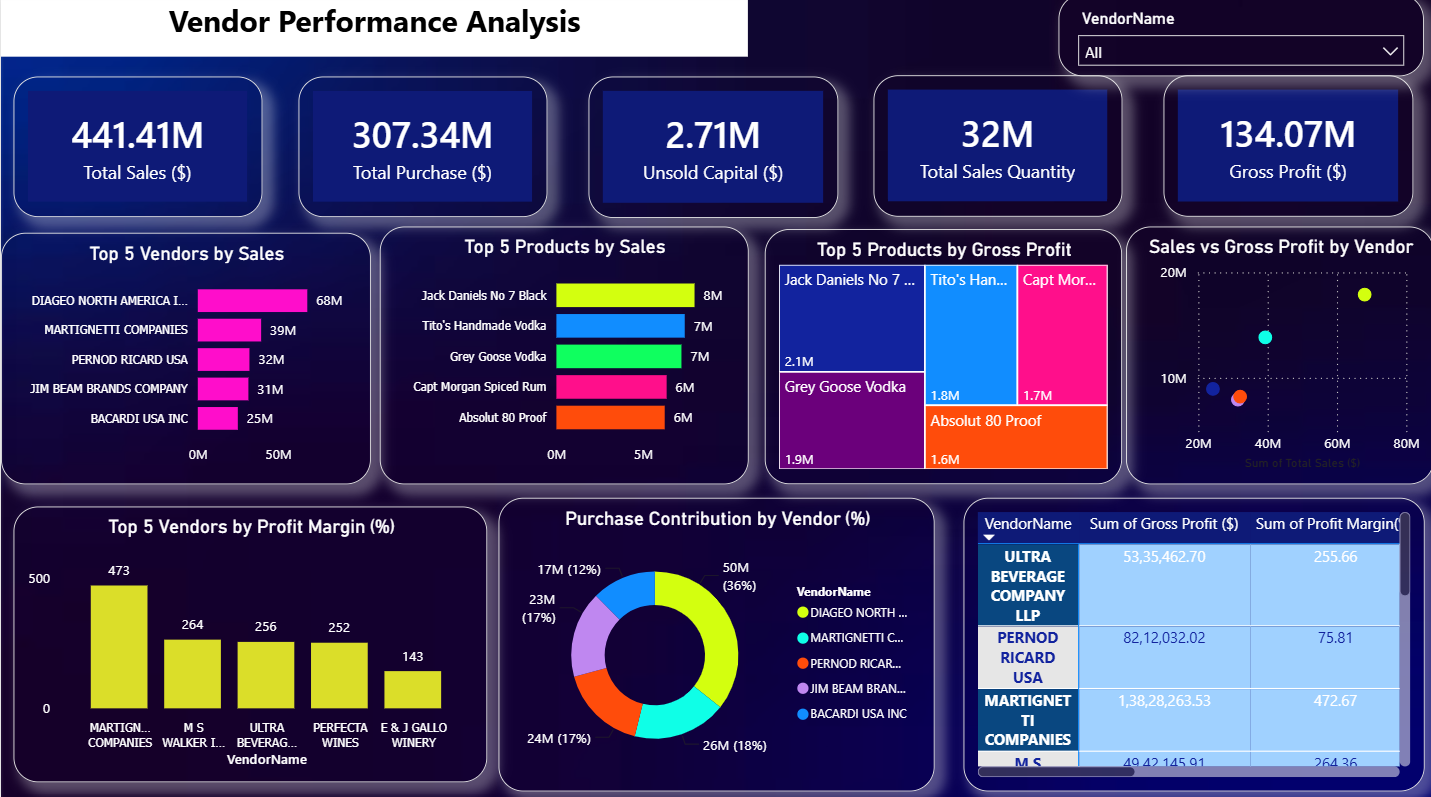

The dashboard page shown, as its layout file describes it:
{"tool":"powerbi","page":{"name":"Vendor performance dashboard","canvas":[1280,720],"ordinal":0},"visuals":[{"type":"cardVisual","fields":{"Data":["Sum(Sheet1.TotalSalesDollars)"]},"box":[11.6,73.3,222.1,125.6],"z":0},{"type":"textbox","box":[0,0,667.4,55.8],"z":1000},{"type":"cardVisual","fields":{"Data":["Sum(Sheet1.Total Purchase ($))"]},"box":[266.3,73.3,222.1,125.6],"z":2000},{"type":"cardVisual","fields":{"Data":["Sum(Sheet1.UnsoldCapital)"]},"box":[524.8,73.7,223.3,126.2],"z":3000},{"type":"cardVisual","fields":{"Data":["Sum(Sheet1.TotalSalesQuantity)"]},"box":[779.4,72.6,222.2,126.2],"z":4000},{"type":"cardVisual","fields":{"Data":["Sum(Sheet1.Gross Profit ($))"]},"box":[1038.5,72.6,223.3,126.2],"z":5000},{"type":"clusteredBarChart","title":"Top 5 Vendors by Sales","fields":{"Category":["Sheet1.VendorName"],"Y":["Sum(Sheet1.Total Sales ($))"]},"box":[0,213.3,330.5,224.4],"z":6000},{"type":"clusteredBarChart","title":"Top 5 Products by Sales","fields":{"Y":["Sum(Sheet1.Total Sales ($))"],"Category":["Sheet1.Brand"]},"box":[338.3,207.7,329.4,230],"z":7000},{"type":"donutChart","title":"Purchase Contribution by Vendor (%)","fields":{"Category":["Sheet1.VendorName"],"Y":["Sum(Sheet1.Total Purchase ($))"]},"box":[444.4,450,389.7,262.4],"z":8000},{"type":"scatterChart","title":"Sales vs Gross Profit by Vendor","fields":{"X":["Sum(Sheet1.Total Sales ($))"],"Y":["Sum(Sheet1.Gross Profit ($))"],"Series":["Sheet1.VendorName"]},"box":[1004.7,208.1,275.6,230.2],"z":9000},{"type":"treemap","title":"Top 5 Products by Gross Profit","fields":{"Group":["Sheet1.Brand"],"Values":["Sum(Sheet1.Gross Profit ($))"]},"box":[682.3,209.9,319.4,227.8],"z":10000},{"type":"clusteredColumnChart","title":"Top 5 Vendors by Profit Margin (%)","fields":{"Category":["Sheet1.VendorName"],"Y":["Sum(Sheet1.Profit Margin(%))"]},"box":[11.6,458.1,423.3,246.5],"z":11000},{"type":"pivotTable","fields":{"Rows":["Sheet1.VendorName"],"Values":["Sum(Sheet1.Gross Profit ($))","Sum(Sheet1.Profit Margin(%))","Sum(Sheet1.TotalSalesQuantity)","Sum(Sheet1.Total Sales ($))","Sum(Sheet1.Total Purchase ($))"]},"box":[859.8,450,412,262.4],"z":12000},{"type":"slicer","fields":{"Values":["Sheet1.VendorName"]},"box":[944.2,0,326.7,73.3],"z":13000}]}

Visuals, with their boxes in screenshot pixels (x1, y1, x2, y2), scaled from the page's 1280x720 canvas onto the 1431x797 screenshot:
cardVisual - Sum(Sheet1.TotalSalesDollars): select_region(13, 81, 261, 220)
textbox: select_region(0, 0, 746, 62)
cardVisual - Sum(Sheet1.Total Purchase ($)): select_region(298, 81, 546, 220)
cardVisual - Sum(Sheet1.UnsoldCapital): select_region(587, 82, 836, 221)
cardVisual - Sum(Sheet1.TotalSalesQuantity): select_region(871, 80, 1120, 220)
cardVisual - Sum(Sheet1.Gross Profit ($)): select_region(1161, 80, 1411, 220)
"Top 5 Vendors by Sales" clusteredBarChart: select_region(0, 236, 369, 485)
"Top 5 Products by Sales" clusteredBarChart: select_region(378, 230, 746, 485)
"Purchase Contribution by Vendor (%)" donutChart: select_region(497, 498, 932, 789)
"Sales vs Gross Profit by Vendor" scatterChart: select_region(1123, 230, 1430, 485)
"Top 5 Products by Gross Profit" treemap: select_region(763, 232, 1120, 485)
"Top 5 Vendors by Profit Margin (%)" clusteredColumnChart: select_region(13, 507, 486, 780)
pivotTable - Sheet1.VendorName x Sum(Sheet1.Gross Profit ($)): select_region(961, 498, 1422, 789)
slicer - Sheet1.VendorName: select_region(1056, 0, 1421, 81)
